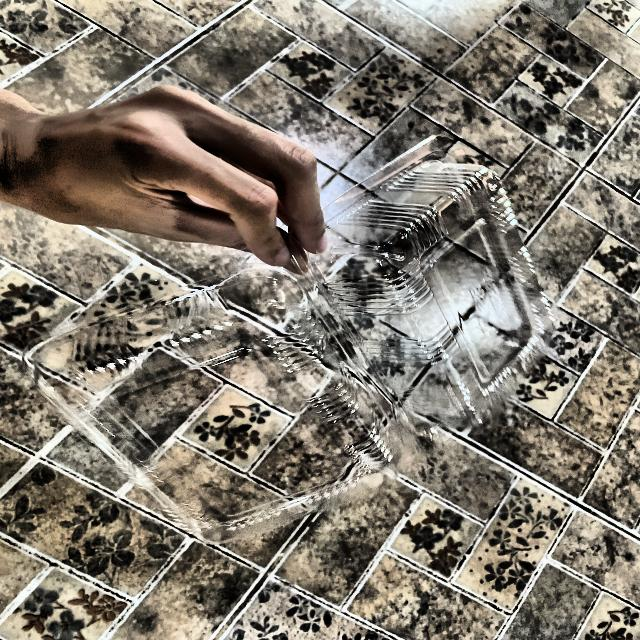plastic container: (43, 140, 579, 528)
